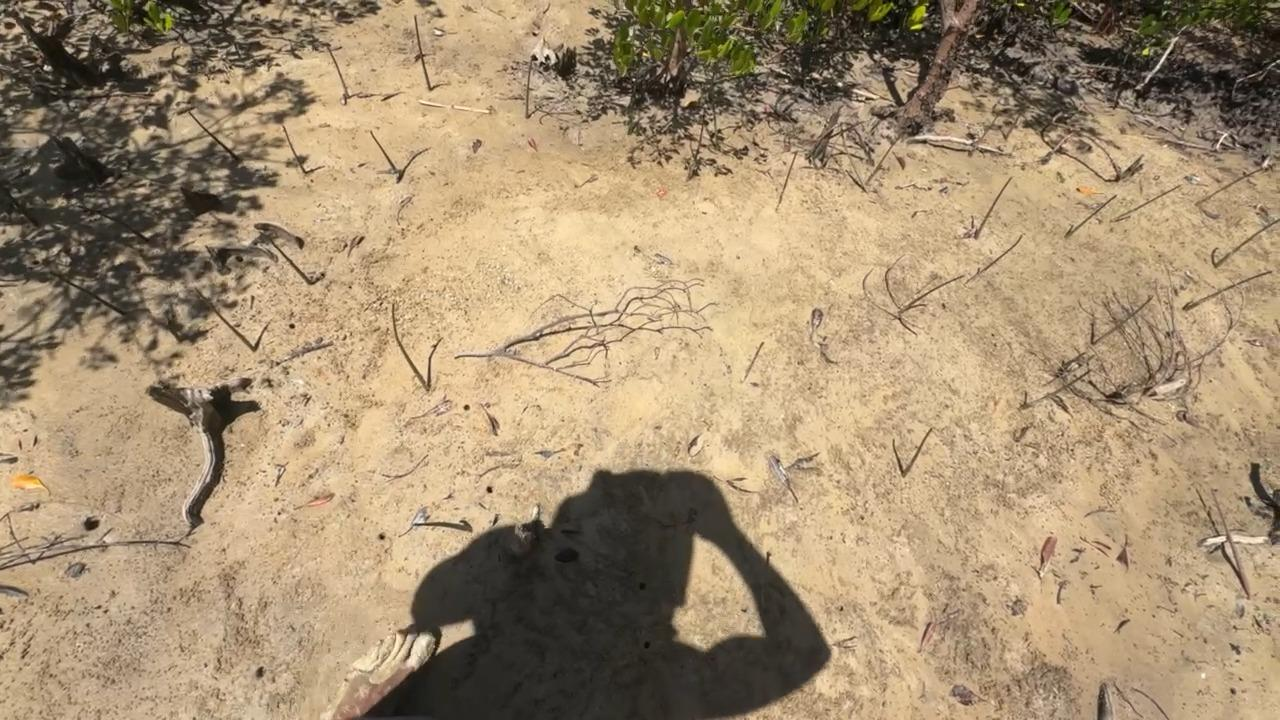Tree: (1213, 485, 1253, 599), (194, 285, 256, 352), (1181, 269, 1275, 313), (48, 268, 130, 317), (391, 298, 430, 393), (1211, 217, 1280, 268), (1089, 291, 1152, 345), (1018, 367, 1093, 412), (260, 229, 315, 285), (1194, 164, 1267, 206), (964, 234, 1024, 284), (1110, 184, 1182, 225), (975, 175, 1017, 240), (188, 109, 240, 159), (898, 274, 966, 312), (866, 127, 911, 183), (1066, 194, 1118, 237), (839, 125, 869, 195), (0, 178, 39, 227), (776, 147, 801, 210), (902, 428, 933, 478), (282, 124, 310, 175), (413, 15, 432, 90), (369, 128, 399, 174), (326, 47, 353, 98), (971, 111, 1001, 153), (688, 110, 702, 176), (745, 341, 764, 380), (1000, 112, 1021, 140), (525, 54, 534, 118)
